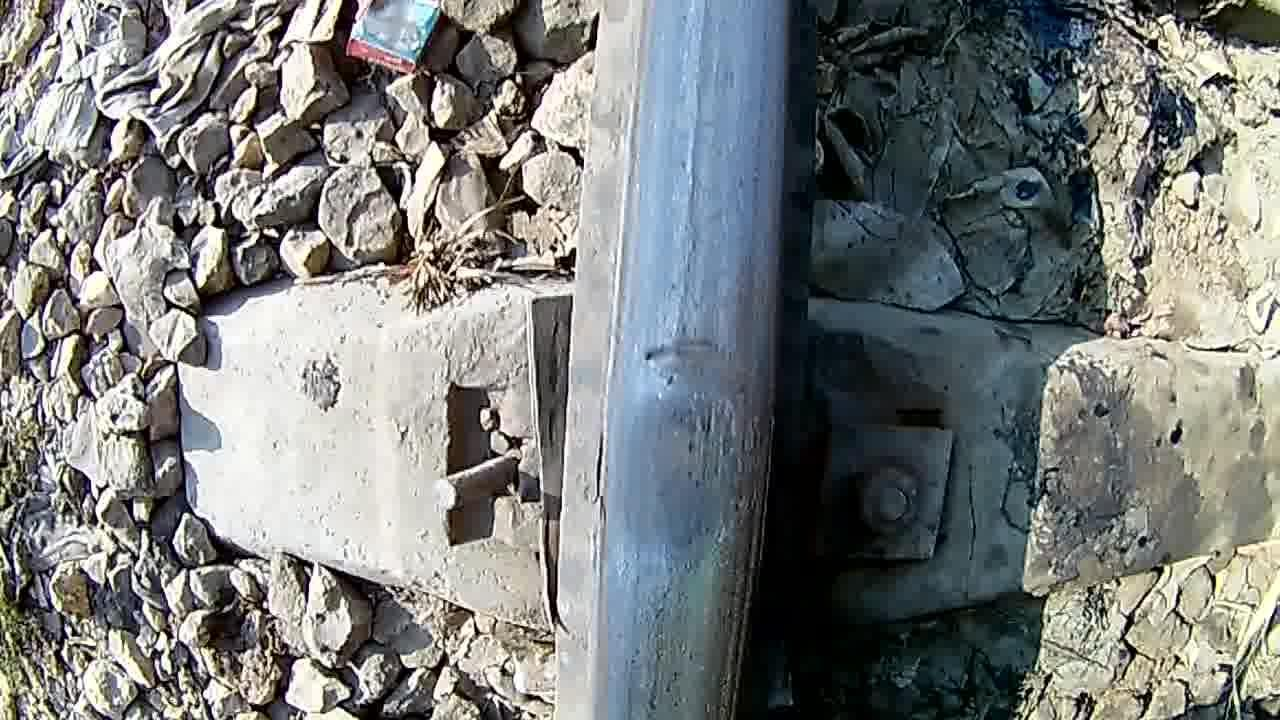crack: (556, 248, 794, 682)
